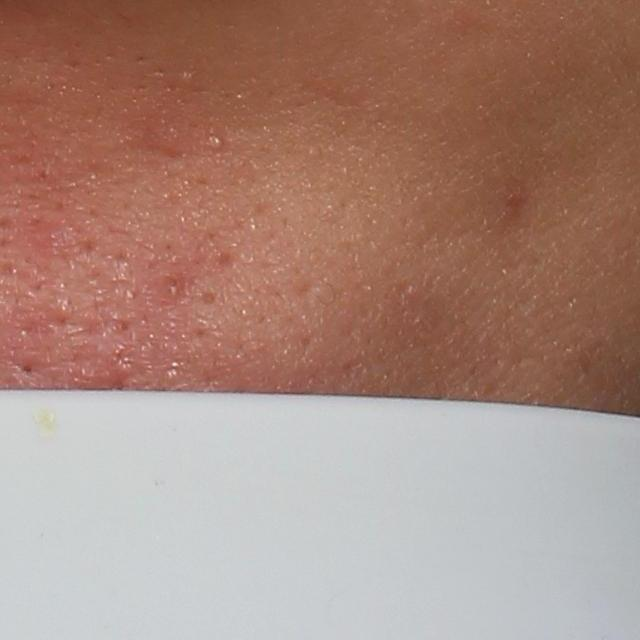comedo: (195, 287, 222, 311)
pustule: (201, 126, 231, 155)
